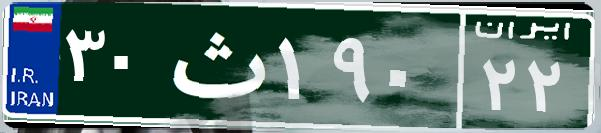0: (385, 28, 445, 110), (110, 28, 158, 105)
1: (273, 28, 330, 110)
2: (475, 38, 525, 113), (525, 38, 570, 115)
3: (57, 26, 110, 107)
9: (330, 28, 385, 110)
ث: (158, 15, 273, 115)
